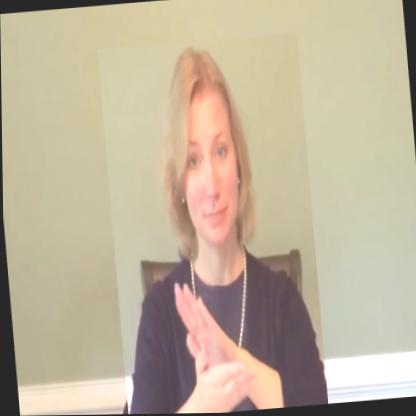NiceToMeetYou: (97, 33, 327, 415)
